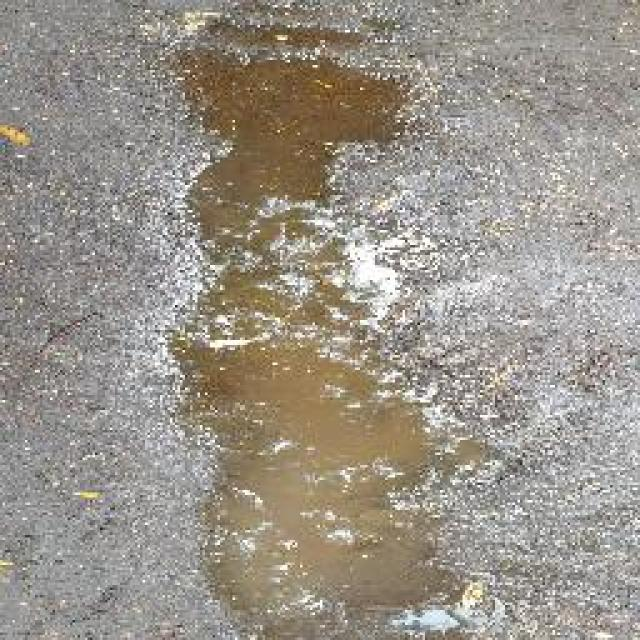stagnation: (154, 6, 451, 632)
